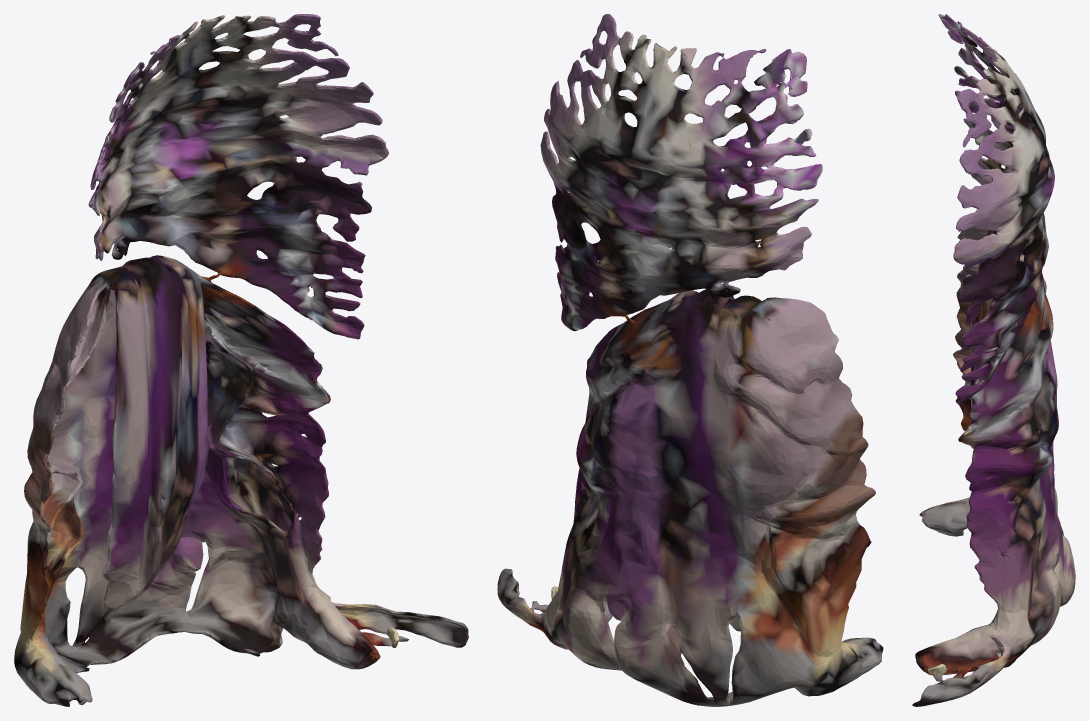
The model's file is threeHeadedHound.glb.
3 renders of one model, left to right at view 1: azimuth 30°, elevation 25°; view 2: azimuth 150°, elevation 25°; view 3: azimuth 270°, elevation 25°, orthographic. The views are drawn at different scales.
Parts seen in each view (by area): view 1: world; view 2: world; view 3: world.
Boxes of the visible parts, <box> form: world: <box>14,14,468,706</box>; world: <box>497,14,883,706</box>; world: <box>912,14,1075,706</box>.
Bounding box in the file's own units: 0.6599 × 1 × 0.2606.
